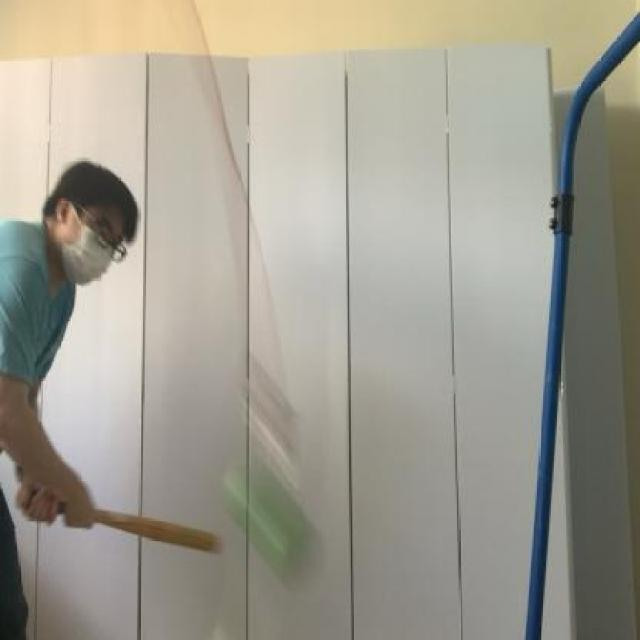baseball: (208, 430, 322, 588)
